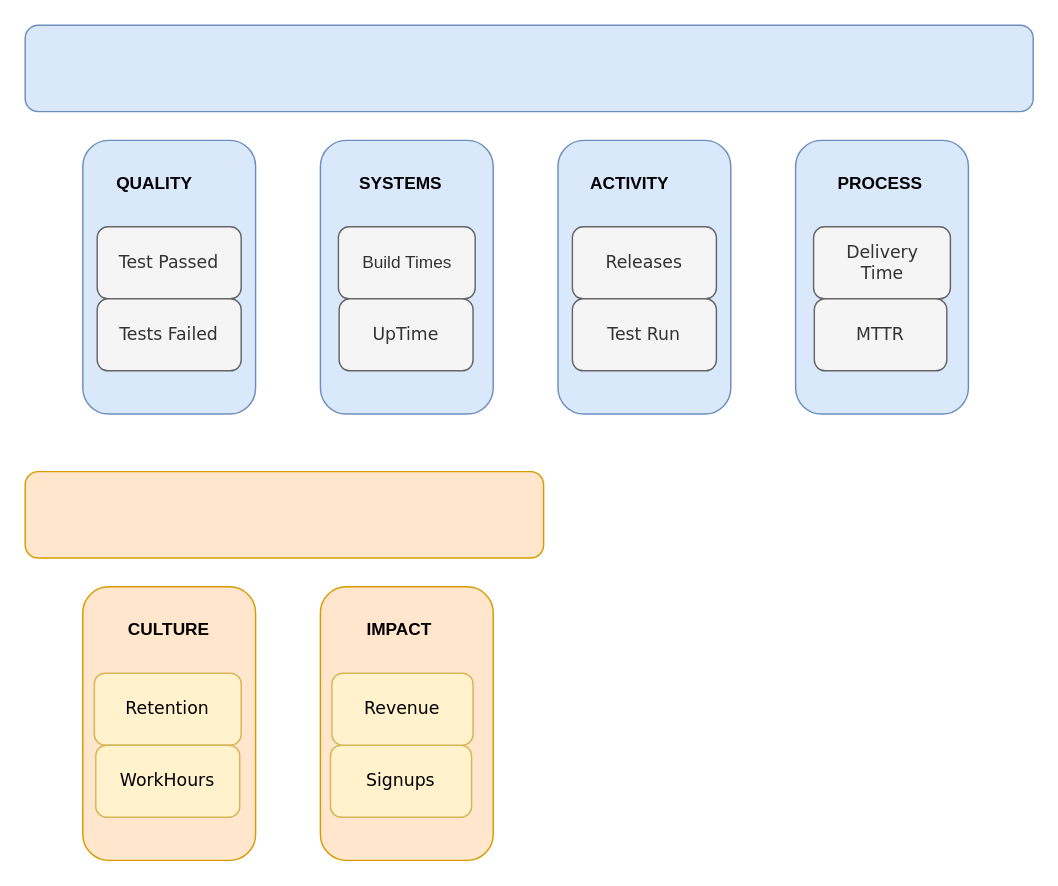
The diagram is 1058 pixels wide and 886 high, and some of its shapes have lost their labels. The shapes that lost their labels are listed below. From the top down, each one's centre as x and y in pixels, then its label:
At point (528, 68): "DIRECT BENEFITS".
At point (284, 514): "IN-DIRECT BENEFITS".
